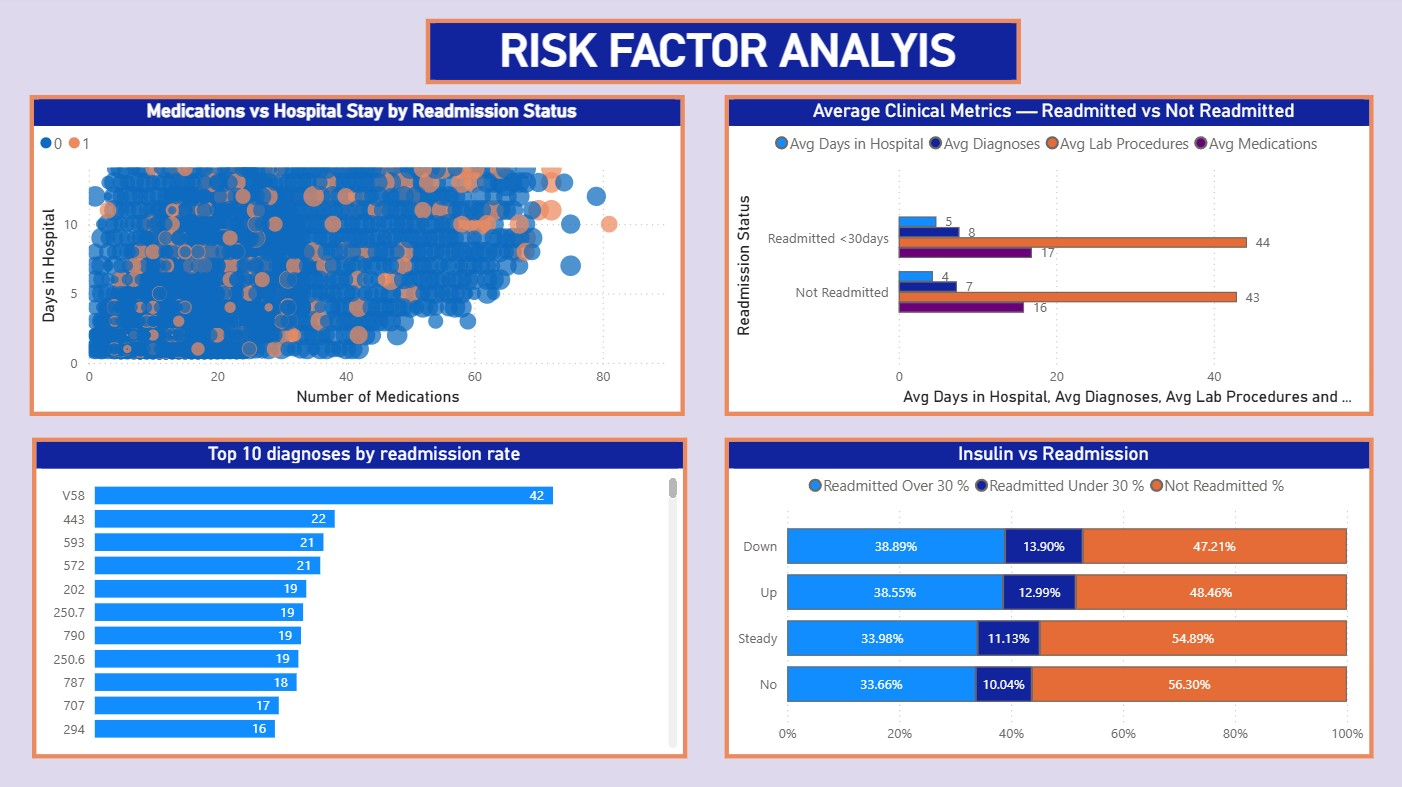

The page's visual inventory and layout, read from the dashboard file:
{"tool":"powerbi","page":{"name":"Page 2","canvas":[1280,720],"ordinal":1},"visuals":[{"type":"scatterChart","title":"Medications vs Hospital Stay by Readmission Status","fields":{"X":["Avg(Diabetic_cleaned.num_medications)"],"Y":["Avg(Diabetic_cleaned.time_in_hospital)"],"Size":["Avg(Diabetic_cleaned.number_diagnoses)"],"Category":["Diabetic_cleaned.encounter_id"],"Series":["Diabetic_cleaned.readmitted_30"]},"box":[34.3,90,592.9,290],"z":0},{"type":"clusteredBarChart","title":"Average Clinical Metrics — Readmitted vs Not Readmitted","fields":{"Y":["Diabetic_cleaned.Avg Days in Hospital","Diabetic_cleaned.Avg Diagnoses","Diabetic_cleaned.Avg Lab Procedures","Diabetic_cleaned.Avg Medications"],"Category":["Diabetic_cleaned.Readmission Status"]},"box":[662.9,90,587.1,290],"z":1000},{"type":"clusteredBarChart","title":"Top 10 diagnoses by readmission rate","fields":{"Y":["Diabetic_cleaned.Readmission Rate %"],"Category":["Diabetic_cleaned.diag_1"]},"box":[35.7,400,592.9,290],"z":2000},{"type":"hundredPercentStackedBarChart","title":"Insulin vs Readmission","fields":{"Category":["Diabetic_cleaned.insulin"],"Y":["Diabetic_cleaned.Readmitted Over 30 %","Diabetic_cleaned.Readmitted Under 30 %","Diabetic_cleaned.Not Readmitted %"]},"box":[662.9,400,587.1,290],"z":3000},{"type":"textbox","title":"RISK FACTOR ANALYIS","box":[392.9,21.4,538.6,59.3],"z":4000}]}

Visuals, with their boxes in screenshot pixels (x1, y1, x2, y2), scaled from the page's 1280x720 canvas onto the 1402x787 screenshot:
"Medications vs Hospital Stay by Readmission Status" scatterChart: (38, 98, 687, 415)
"Average Clinical Metrics — Readmitted vs Not Readmitted" clusteredBarChart: (726, 98, 1369, 415)
"Top 10 diagnoses by readmission rate" clusteredBarChart: (39, 437, 689, 754)
"Insulin vs Readmission" hundredPercentStackedBarChart: (726, 437, 1369, 754)
"RISK FACTOR ANALYIS" textbox: (430, 23, 1020, 88)
